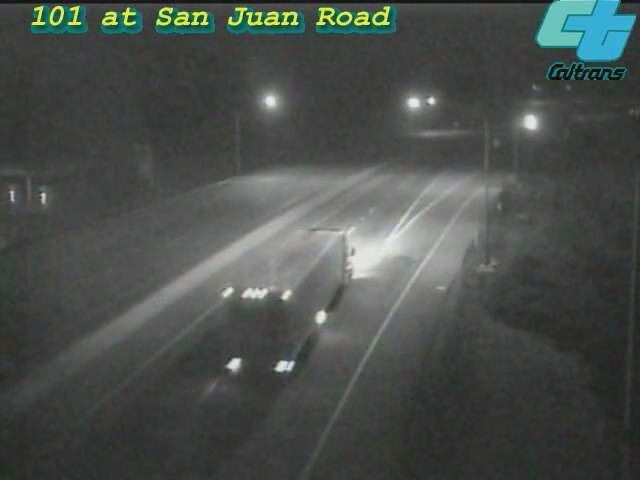vehicle: (262, 239, 342, 319), (506, 98, 556, 148)
